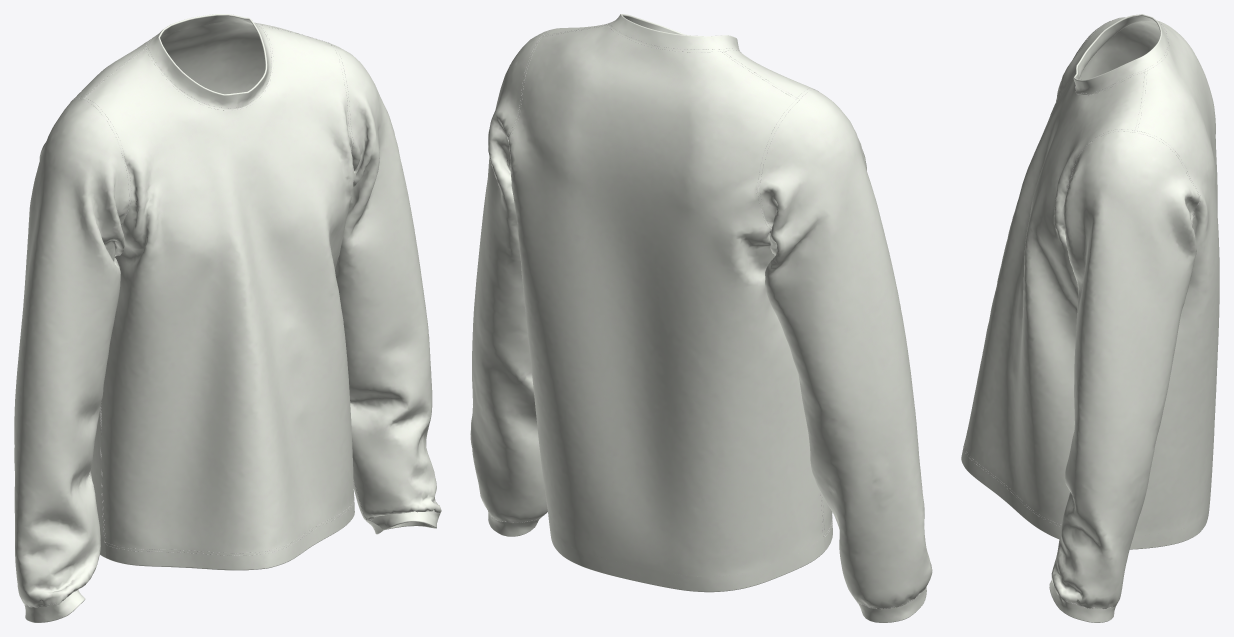
The model's file is long_sleeve_t-_shirt-compressed.glb.
The picture shows the model from 3 angles, left to right: view 1: azimuth 30°, elevation 25°; view 2: azimuth 150°, elevation 25°; view 3: azimuth 270°, elevation 25°; orthographic projection. The views are drawn at different scales.
Parts seen in each view (by area): view 1: Long_Sleeve_T-Shirt; view 2: Long_Sleeve_T-Shirt; view 3: Long_Sleeve_T-Shirt.
Boxes of the visible parts, x1,y1,x2,y2 form: Long_Sleeve_T-Shirt: (14, 14, 441, 622); Long_Sleeve_T-Shirt: (470, 14, 932, 622); Long_Sleeve_T-Shirt: (961, 14, 1219, 622).
Bounding box in the file's own units: 0.619 × 0.7566 × 0.3509.
Materials: 2 (2 with a texture image).
